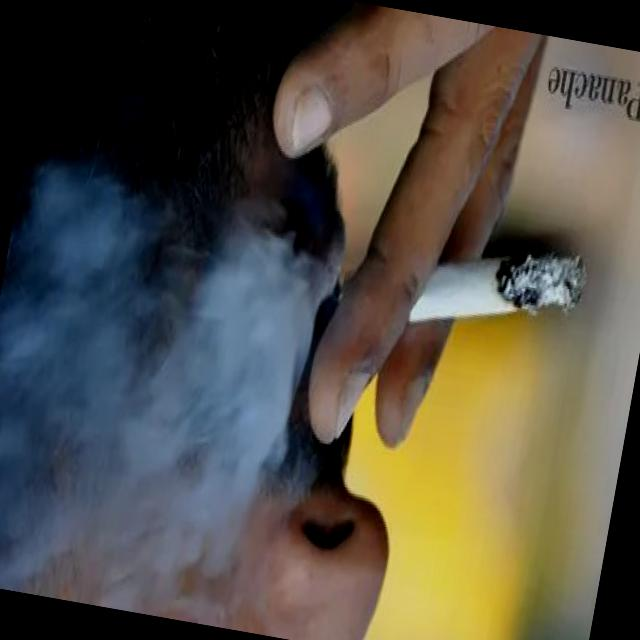smoke: (400, 222, 594, 362)
